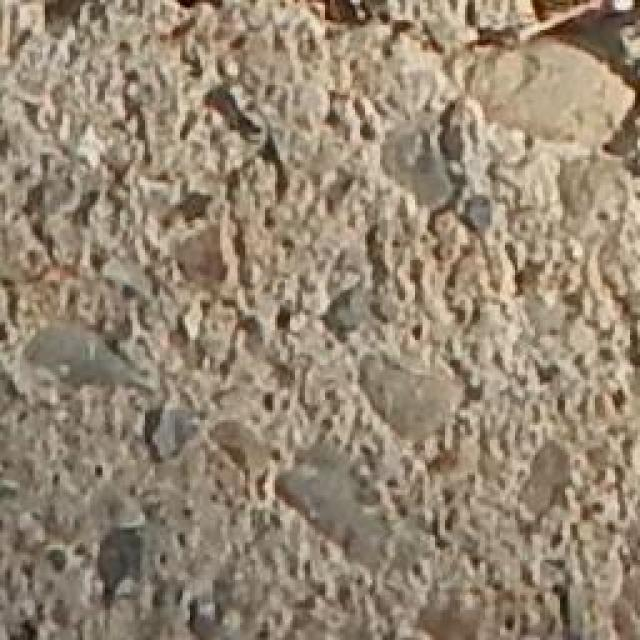concrete-crack: (44, 0, 640, 328)
